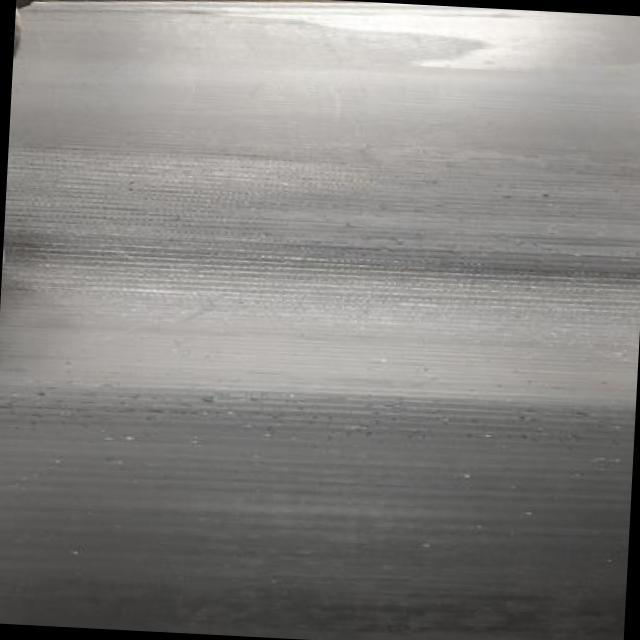Wear: (0, 219, 640, 333)
